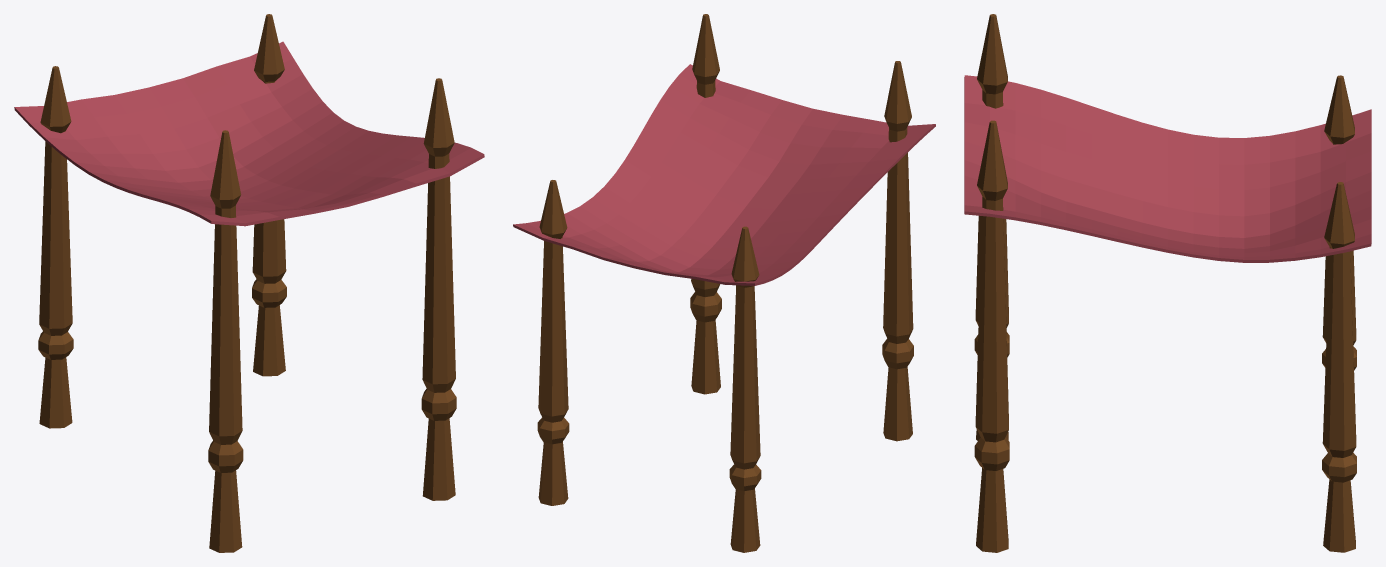
The model's file is G_Tent_Red.fbx.
The picture shows the model from 3 angles, left to right: view 1: azimuth 30°, elevation 25°; view 2: azimuth 150°, elevation 25°; view 3: azimuth 270°, elevation 25°; orthographic projection. The views are drawn at different scales.
Parts seen in each view (by area): view 1: G_Tent_Red; view 2: G_Tent_Red; view 3: G_Tent_Red.
Part boxes in pixels (x1=…): G_Tent_Red: x1=14, y1=14, x2=484, y2=552; G_Tent_Red: x1=513, y1=14, x2=935, y2=552; G_Tent_Red: x1=964, y1=14, x2=1371, y2=552.
Size of the model in its own units: 250 by 363 by 316.
